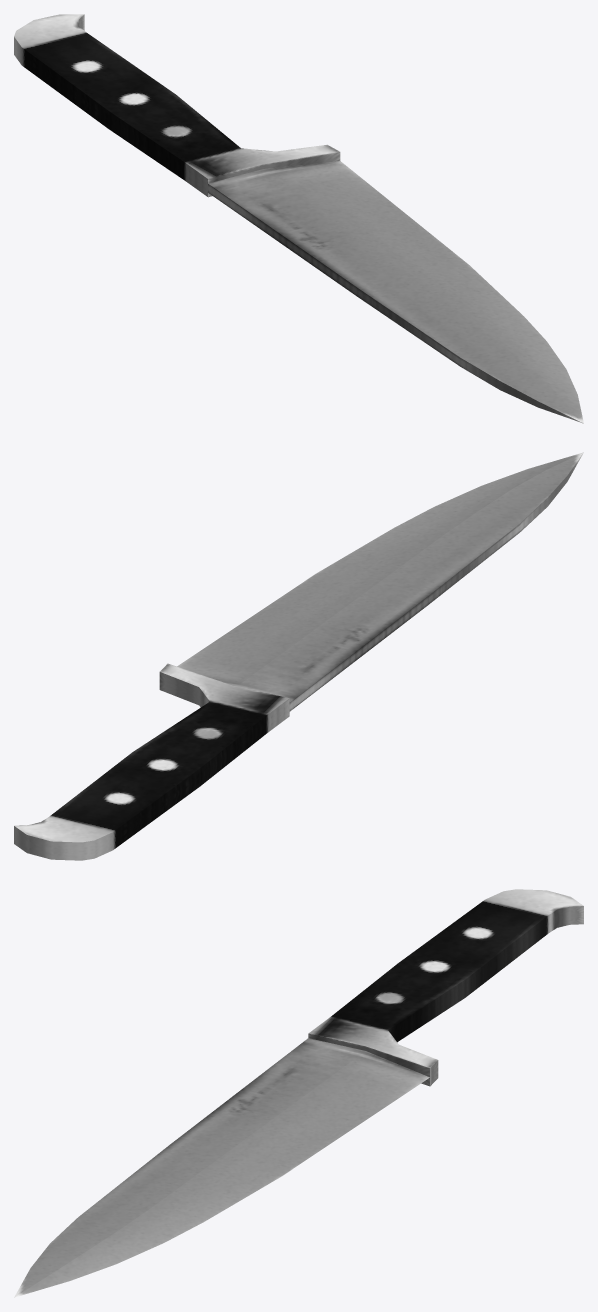
Rendered from clo_kitchenknife.fbx.
The picture shows the model from 3 angles, top to bottom: view 1: azimuth 30°, elevation 25°; view 2: azimuth 150°, elevation 25°; view 3: azimuth 330°, elevation 25°; orthographic projection.
Parts seen in each view (by area): view 1: Knife; view 2: Knife; view 3: Knife.
Part boxes in pixels (<box>): Knife: <box>14,14,583,423</box>; Knife: <box>14,452,583,860</box>; Knife: <box>14,889,583,1297</box>.
Bounding box in the file's own units: 115 × 15.26 × 821.
